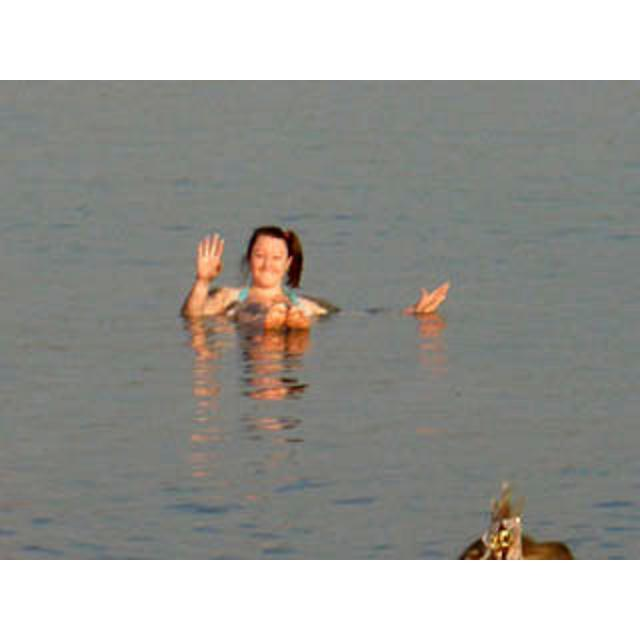human: (188, 214, 450, 336)
